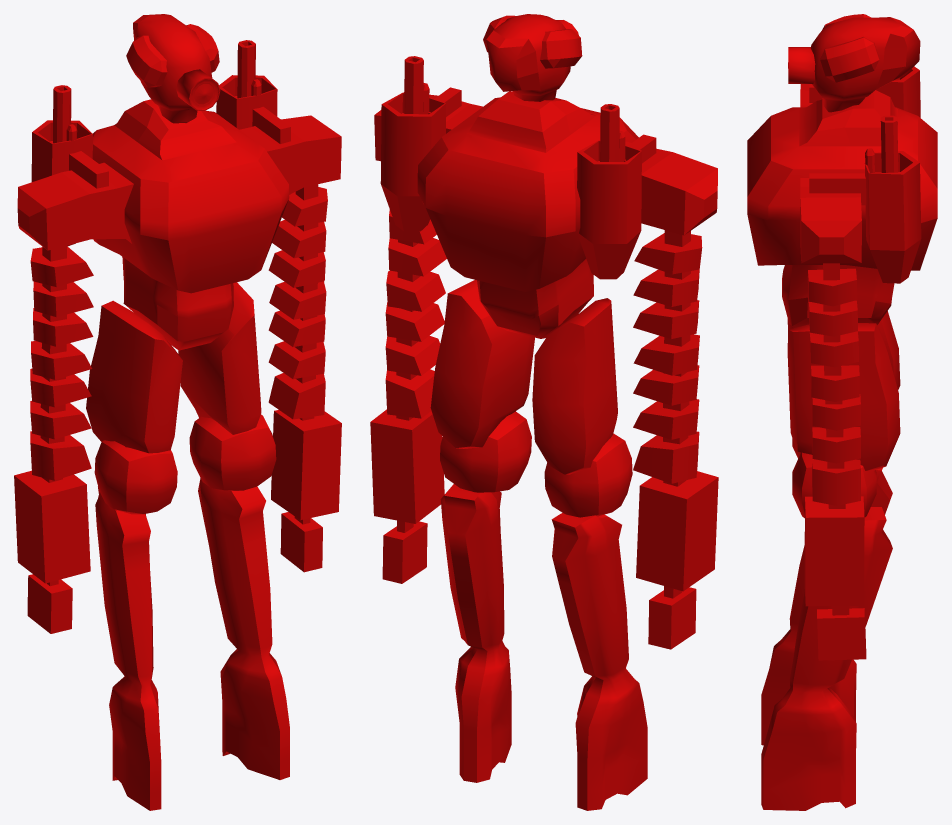
Rendered from RoboCopModel.fbx.
3 views of the same model, side by side, from view 1: azimuth 30°, elevation 25°; view 2: azimuth 150°, elevation 25°; view 3: azimuth 270°, elevation 25° (orthographic). The views are drawn at different scales.
Visible parts, largest first — view 1: pCube80; view 2: pCube80; view 3: pCube80.
Boxes of the visible parts, x1,y1,x2,y2 form: pCube80: (14, 14, 341, 810); pCube80: (370, 14, 718, 810); pCube80: (747, 14, 937, 810).
Bounding box in the file's own units: 0.9758 × 2.2 × 0.5049.
